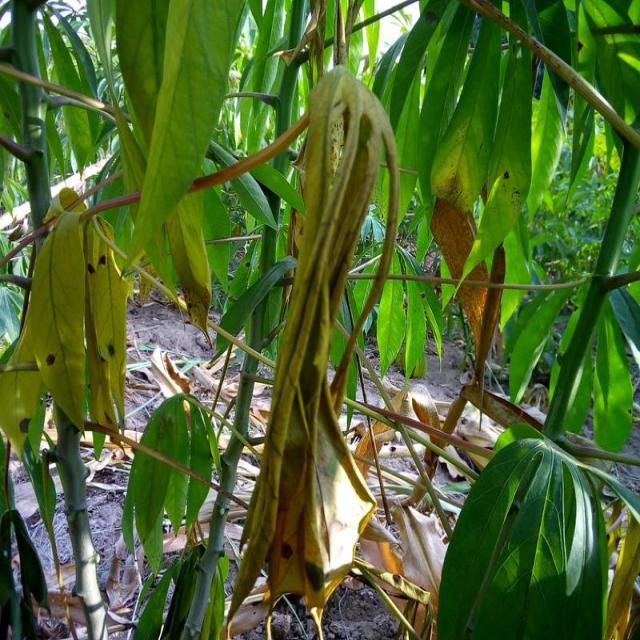cassava leaf: (224, 64, 402, 637), (437, 433, 610, 638), (122, 390, 218, 580)
